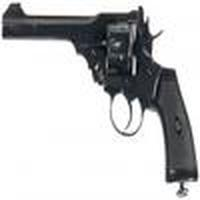gun: (2, 6, 196, 190)
